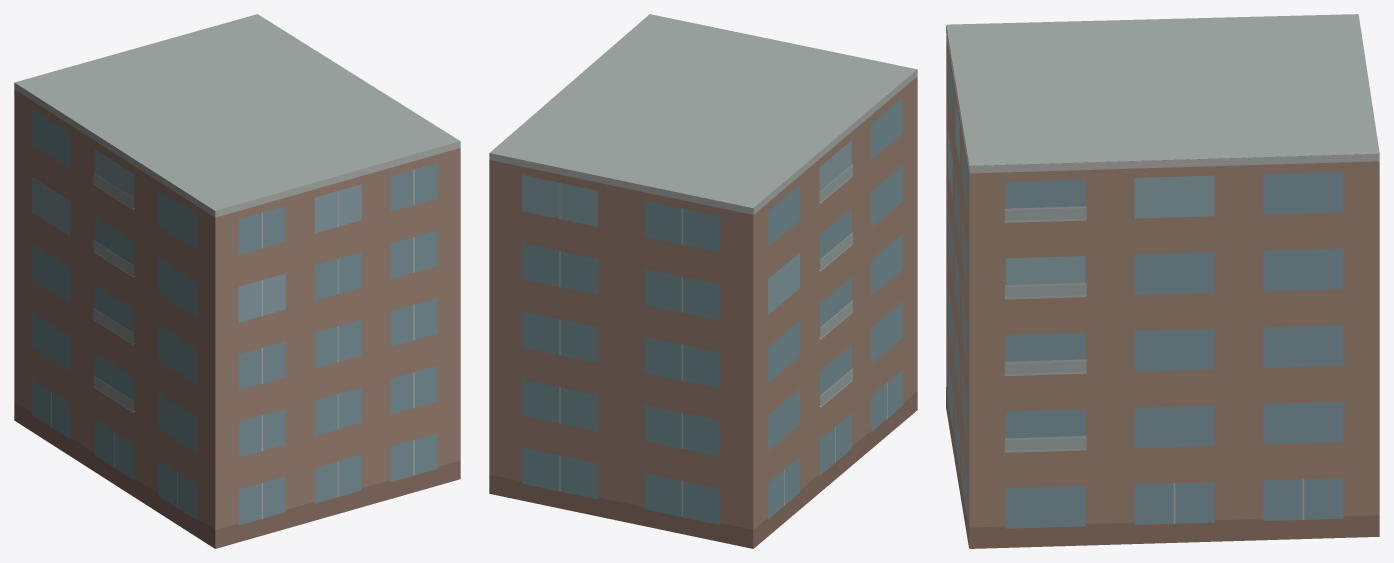
The model's file is survey-upis-32849498.glb.
3 renders of one model, left to right at view 1: azimuth 30°, elevation 25°; view 2: azimuth 150°, elevation 25°; view 3: azimuth 270°, elevation 25°, orthographic. The views are drawn at different scales.
Parts seen in each view (by area): view 1: survey-upis-32849498.tmp; view 2: survey-upis-32849498.tmp; view 3: survey-upis-32849498.tmp.
Part boxes in pixels (x1=…): survey-upis-32849498.tmp: x1=14, y1=14, x2=460, y2=548; survey-upis-32849498.tmp: x1=489, y1=14, x2=917, y2=548; survey-upis-32849498.tmp: x1=946, y1=14, x2=1379, y2=548.
Bounding box in the file's own units: 10.49 × 12.32 × 12.65.
